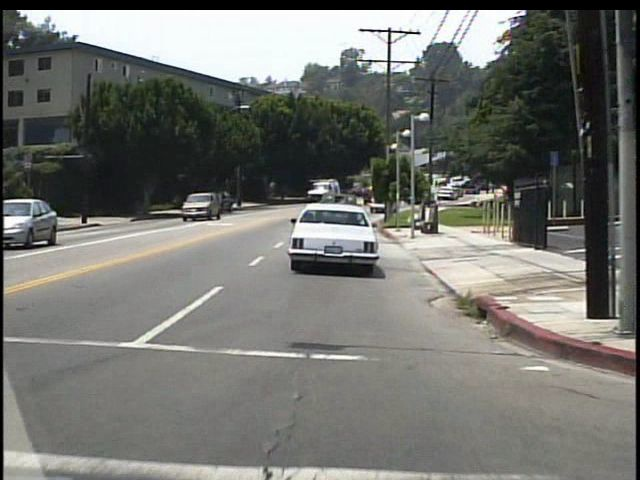person: (43, 199, 57, 228)
